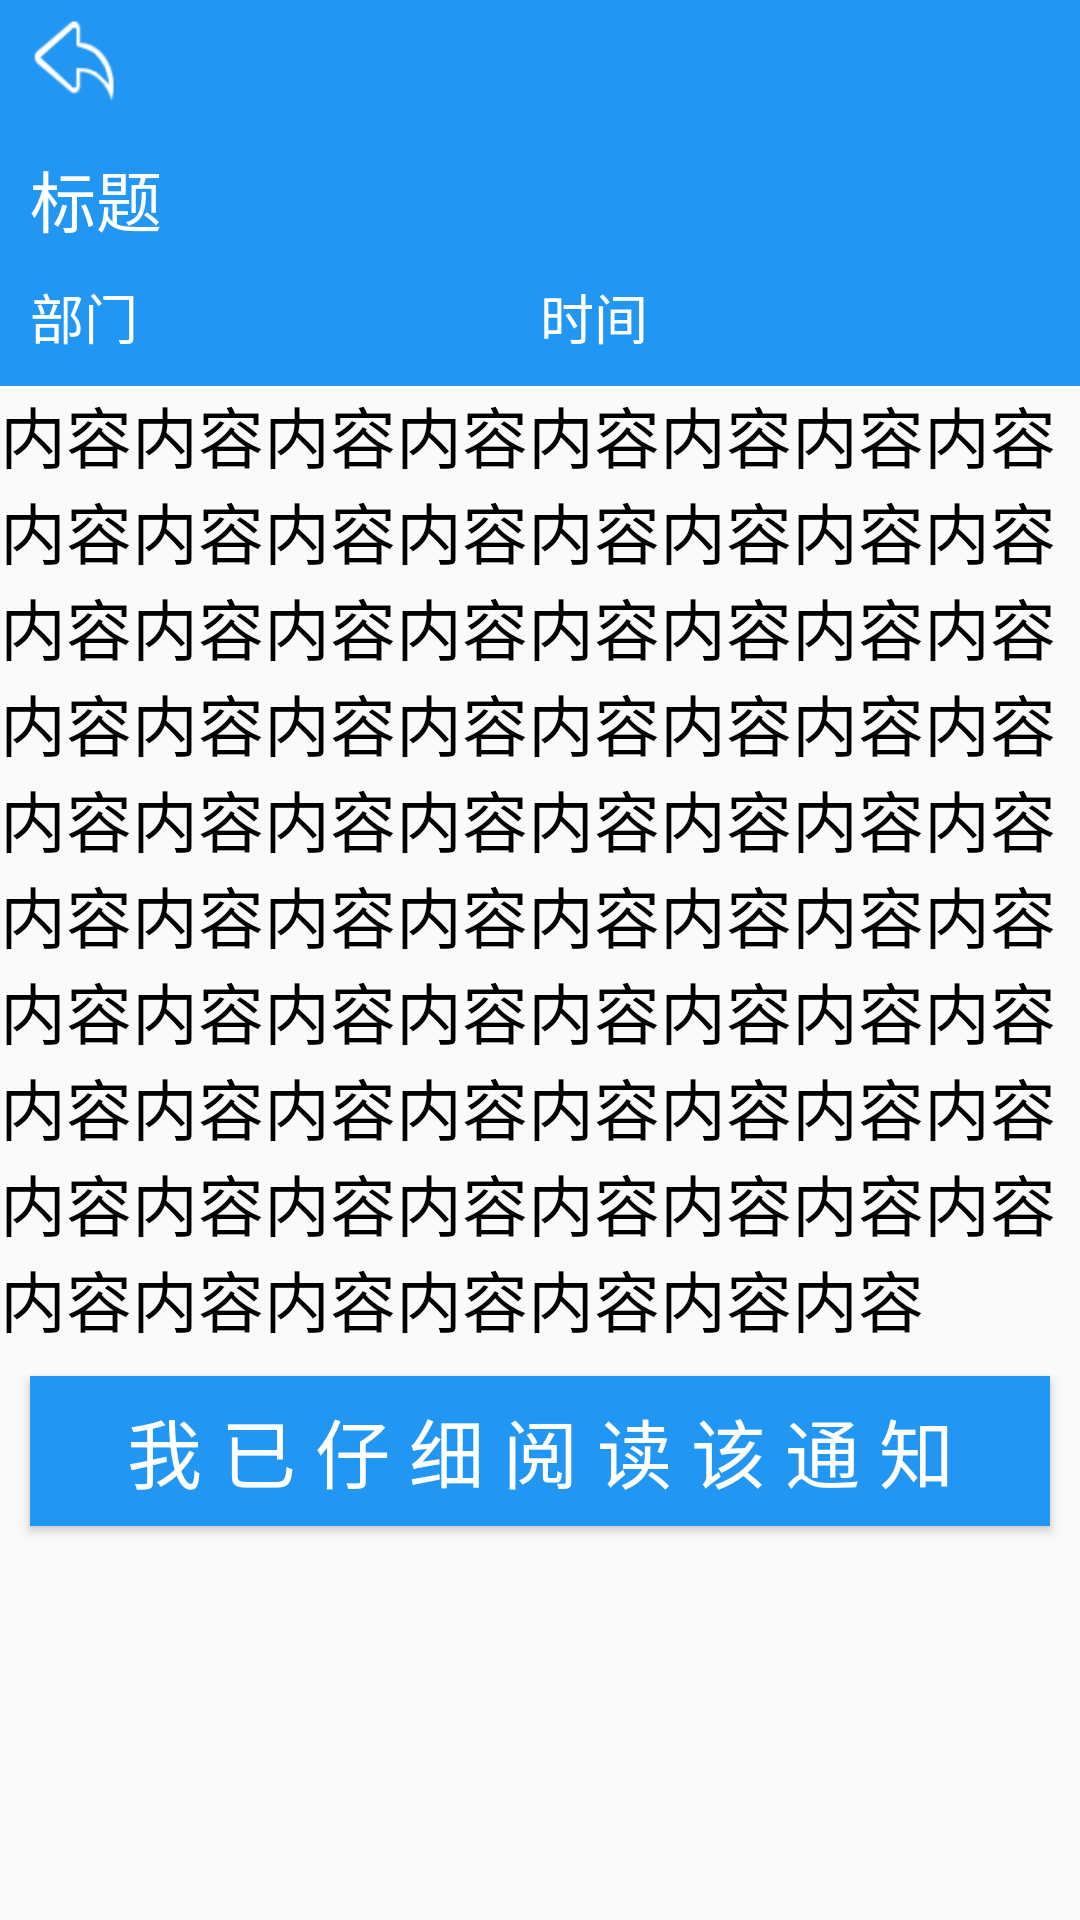

Named icons in this screenshot (1080px×1920px) and their centers, point (x, y):
withdraw: point (74, 60)
